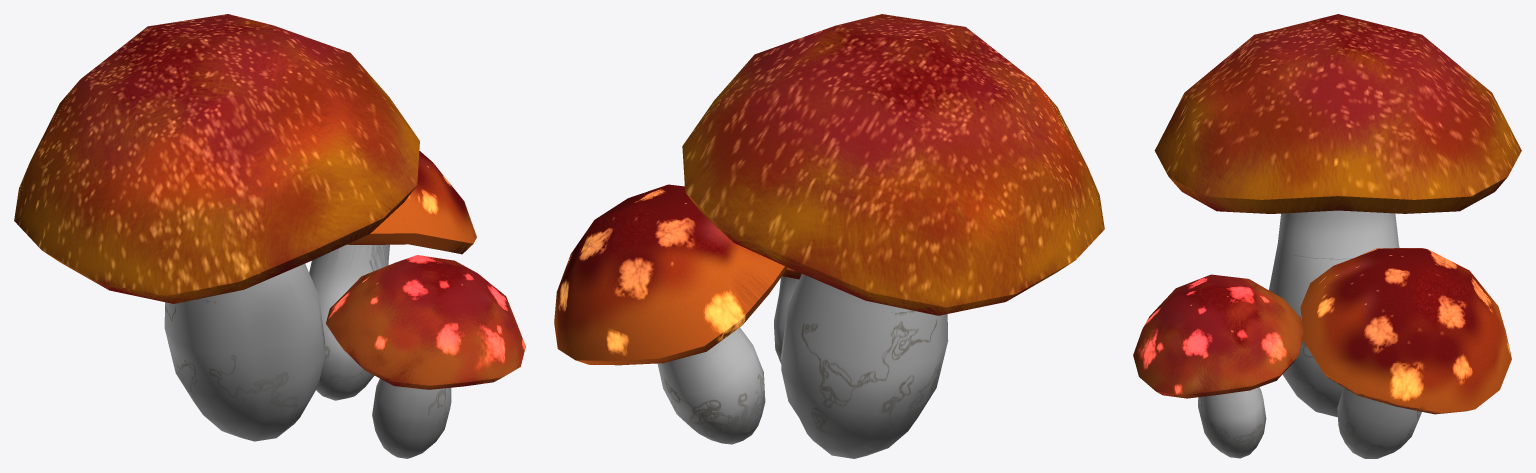
File: mushrooms.gltf
3 views of the same model, side by side, from view 1: azimuth 30°, elevation 25°; view 2: azimuth 150°, elevation 25°; view 3: azimuth 270°, elevation 25° (orthographic). The views are drawn at different scales.
Parts seen in each view (by area): view 1: Object_3, Object_2; view 2: Object_3, Object_2; view 3: Object_3, Object_2.
Part boxes in pixels (box(x1,y1,x2,y2)): Object_3: box(14, 14, 525, 389); Object_2: box(164, 244, 451, 458); Object_3: box(554, 14, 1104, 365); Object_2: box(657, 274, 948, 458); Object_3: box(1133, 14, 1521, 414); Object_2: box(1198, 210, 1421, 458).
Bounding box in the file's own units: 12.73 × 11.08 × 10.53.
Materials: 2 (2 with a texture image).
